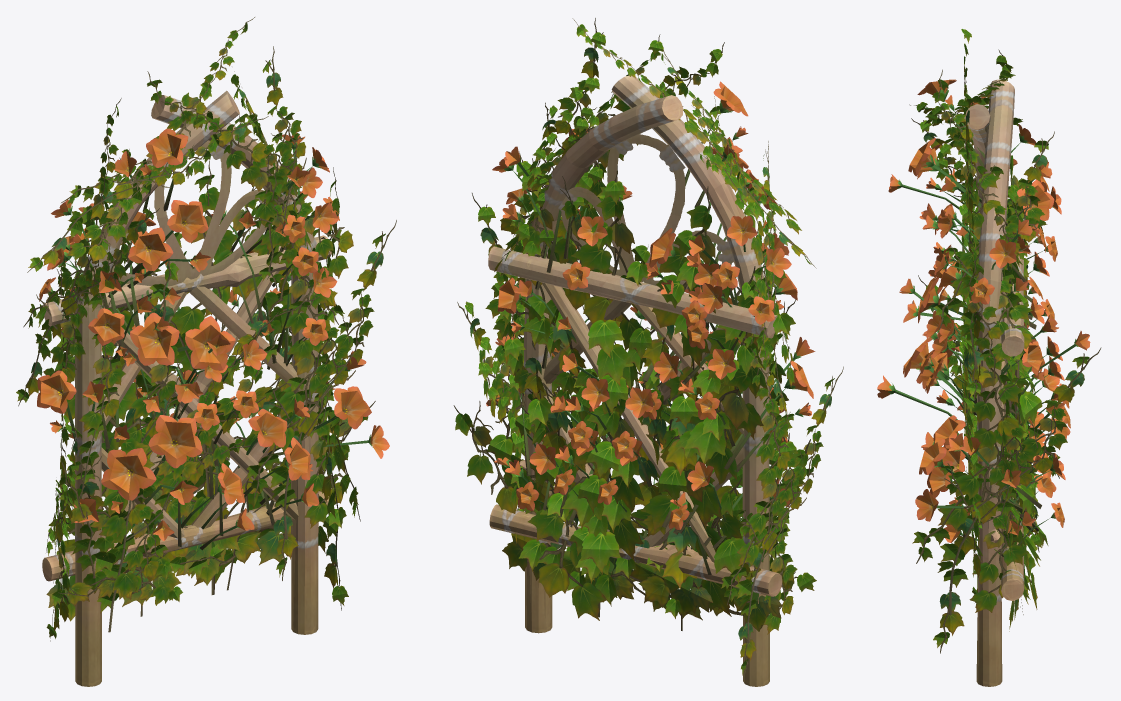
Rendered from P_Roselingxiao03.obj.
3 renders of one model, left to right at view 1: azimuth 30°, elevation 25°; view 2: azimuth 150°, elevation 25°; view 3: azimuth 270°, elevation 25°, orthographic. The views are drawn at different scales.
Bounding box in the file's own units: 2.33 × 3.68 × 1.3.
Materials: 47 (47 with a texture image).
